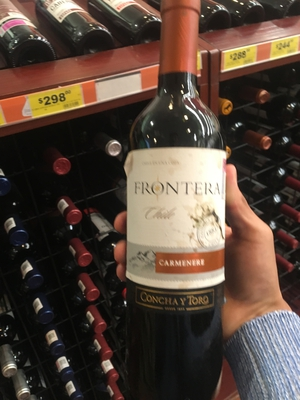frontera carmenere: (113, 7, 244, 400)
